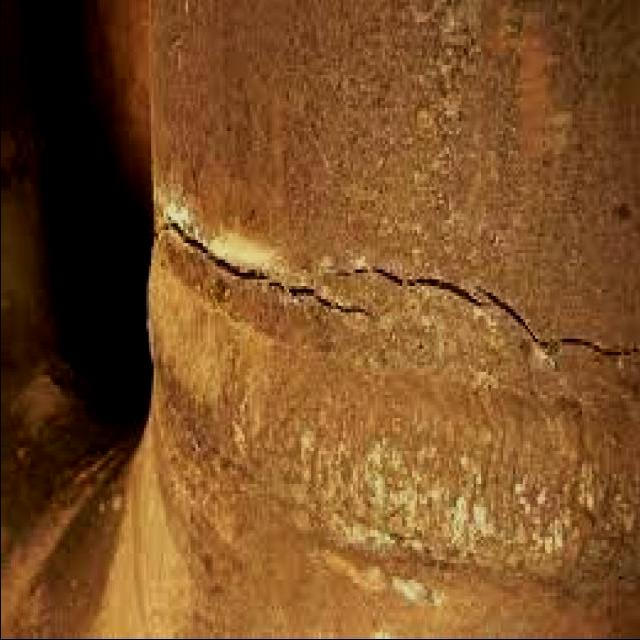defect: (321, 259, 640, 368), (153, 215, 391, 327)
